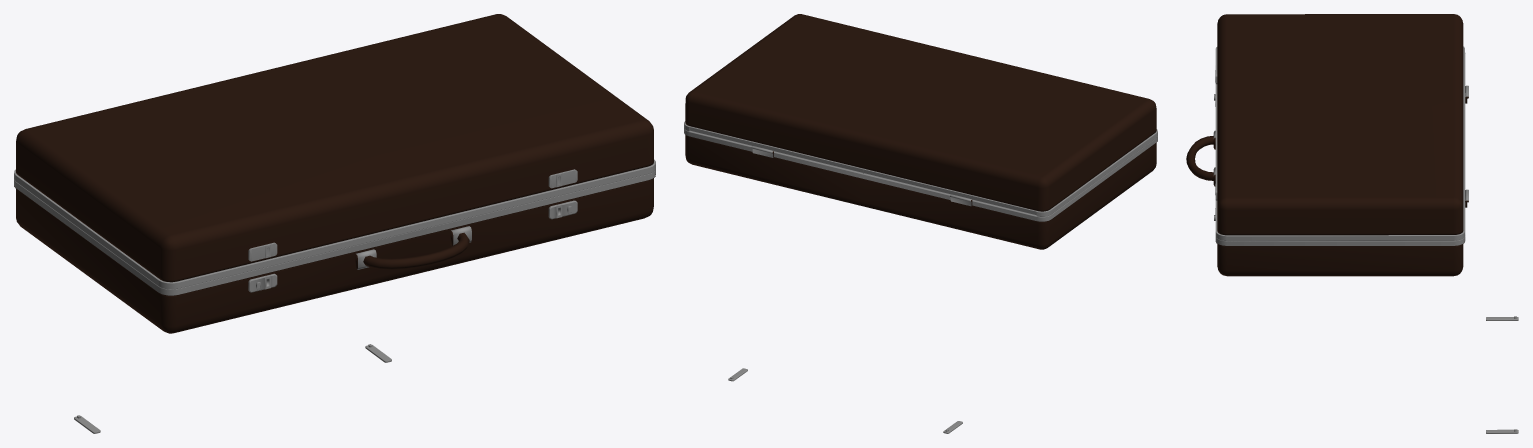
The model's file is MaletinAnimacion2.fbx.
3 renders of one model, left to right at view 1: azimuth 30°, elevation 25°; view 2: azimuth 150°, elevation 25°; view 3: azimuth 270°, elevation 25°, orthographic. The views are drawn at different scales.
Visible parts, largest first — view 1: CajaBOT.001, MangoBOT; view 2: CajaBOT.001, MangoBOT; view 3: CajaBOT.001, MangoBOT.
Boxes of the visible parts, x1,y1,x2,y2 form: CajaBOT.001: (14,14,655,289); MangoBOT: (14,168,655,333); CajaBOT.001: (684,14,1157,216); MangoBOT: (684,128,1157,249); CajaBOT.001: (1215,14,1465,241); MangoBOT: (1186,85,1468,276).
Size of the model in its own units: 6.11 by 4.01 by 4.47.
